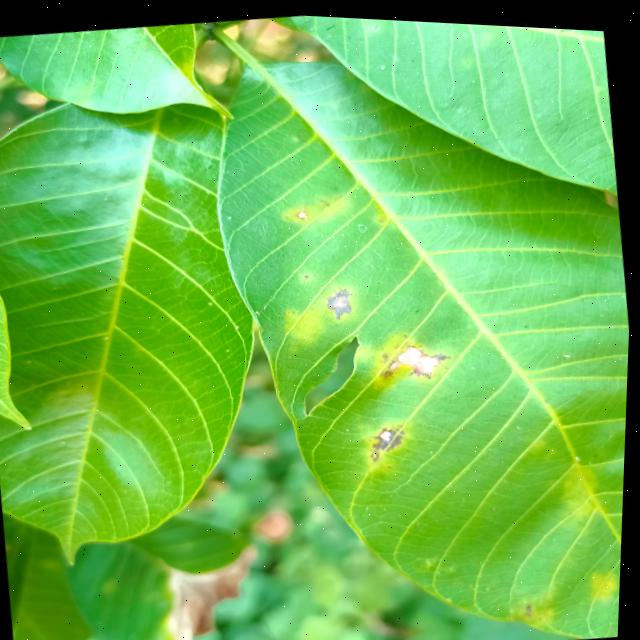Leaf-Blight: (390, 337, 444, 373), (381, 426, 394, 437)
